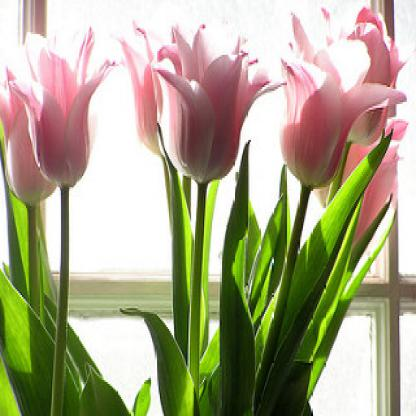TULIP: (124, 12, 412, 279), (9, 31, 124, 228)
